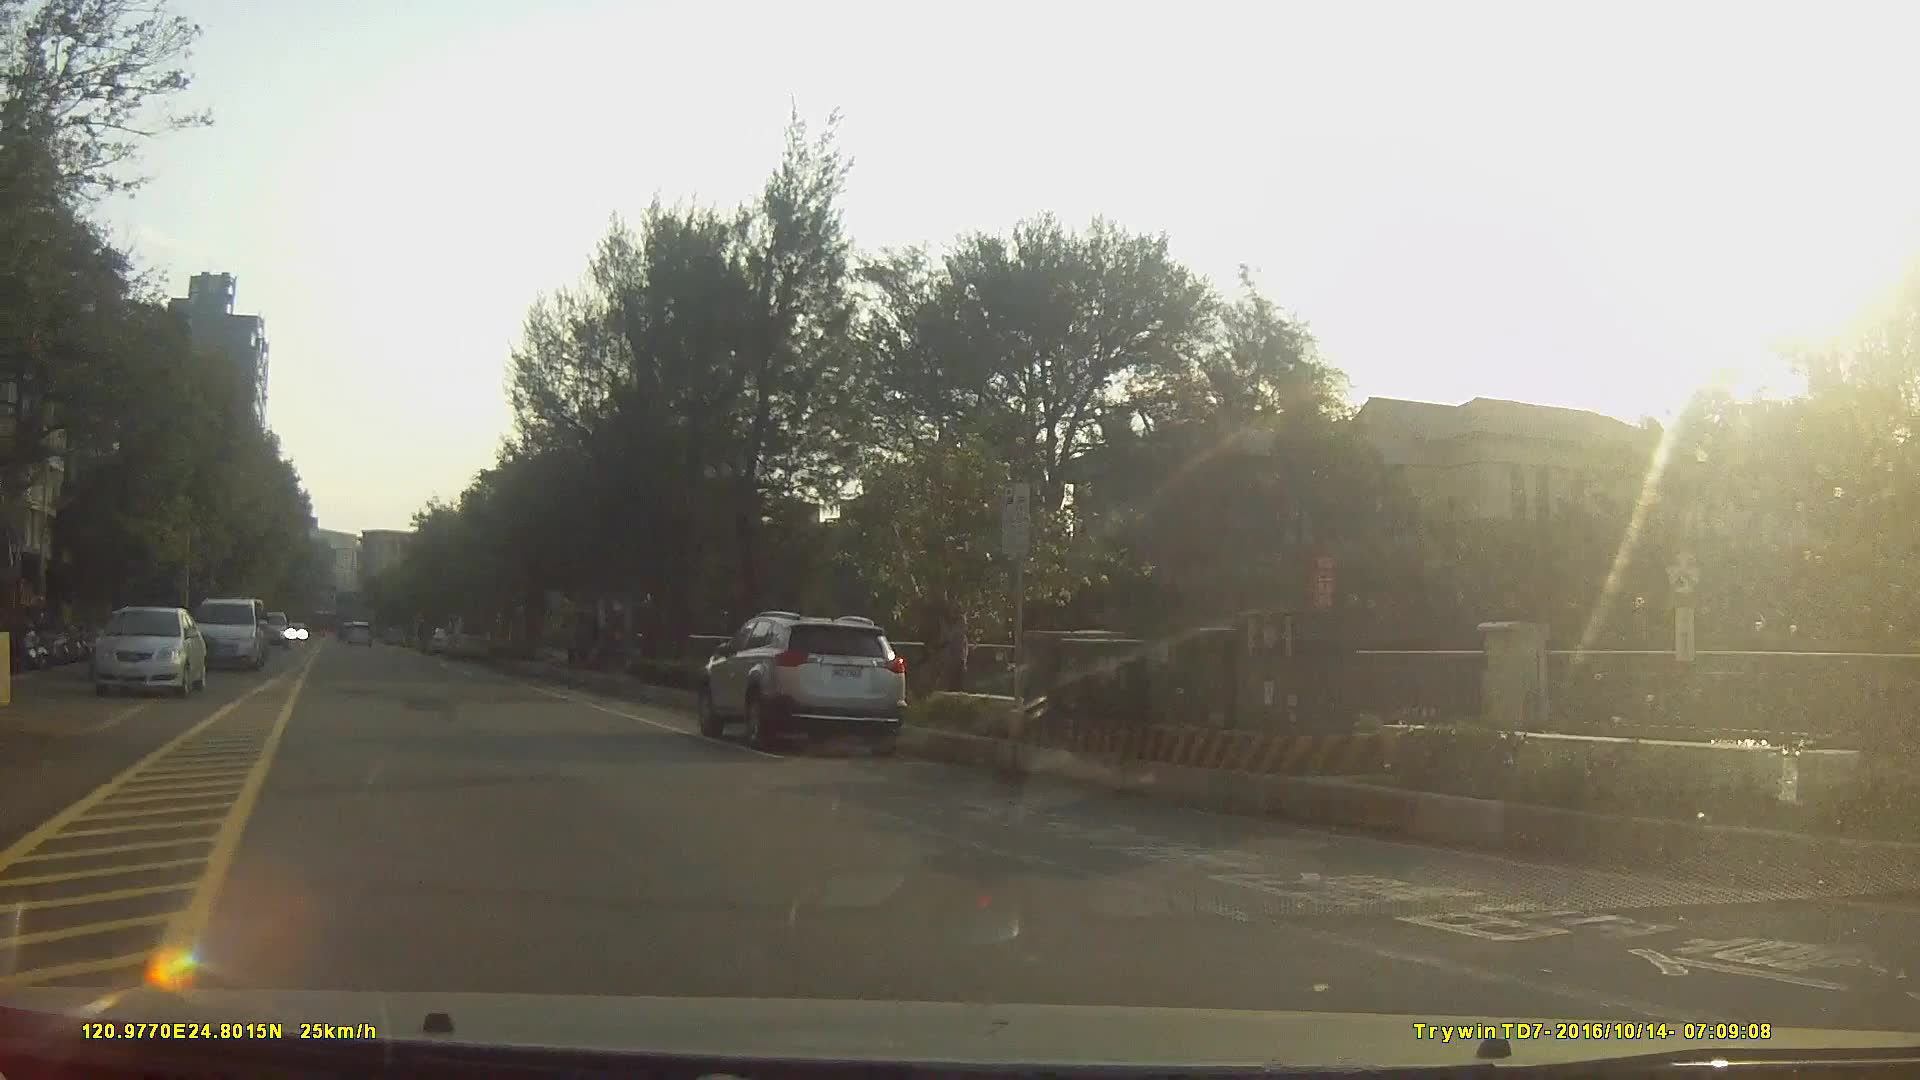vehicle: (702, 611, 907, 752), (90, 605, 207, 696), (196, 599, 265, 673), (442, 615, 493, 663), (249, 608, 290, 651)
